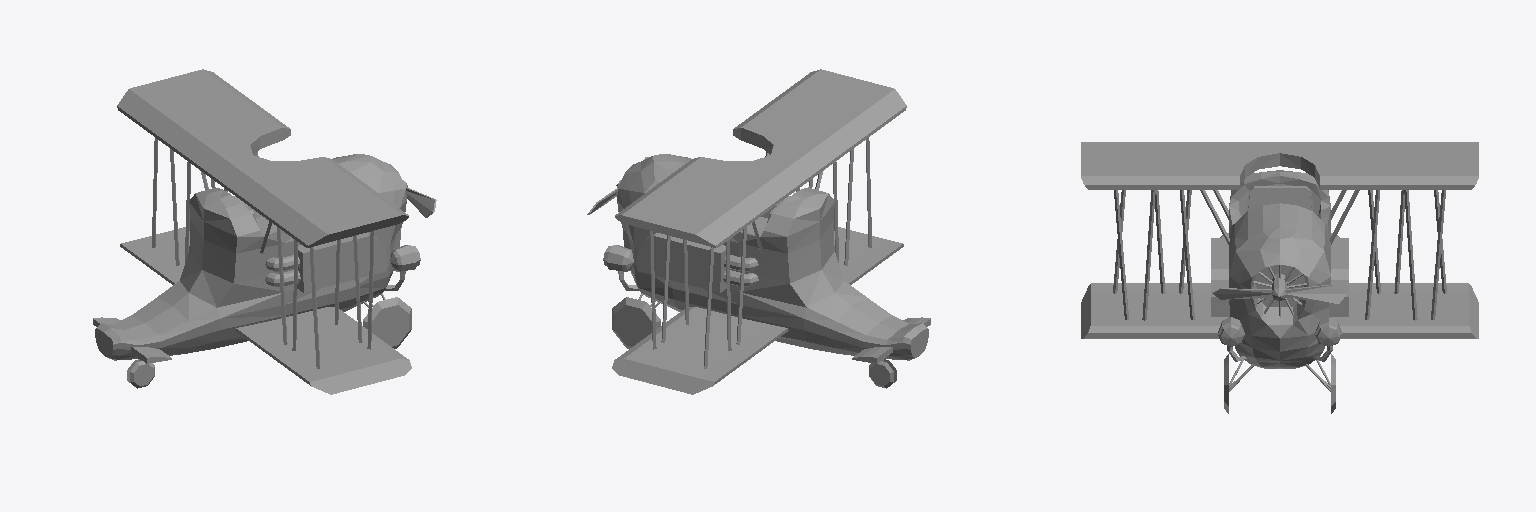
The picture shows the model from 3 angles: view 1: azimuth 30°, elevation 25°; view 2: azimuth 150°, elevation 25°; view 3: azimuth 270°, elevation 25°; orthographic projection.
Visible parts, largest first — view 1: Krulya2; view 2: Krulya2; view 3: Krulya2.
Boxes of the visible parts, <box> form: Krulya2: <box>93,69,436,394</box>; Krulya2: <box>587,69,930,394</box>; Krulya2: <box>1081,142,1478,413</box>.
Bounding box in the file's own units: 2.33 × 1.5 × 2.65.